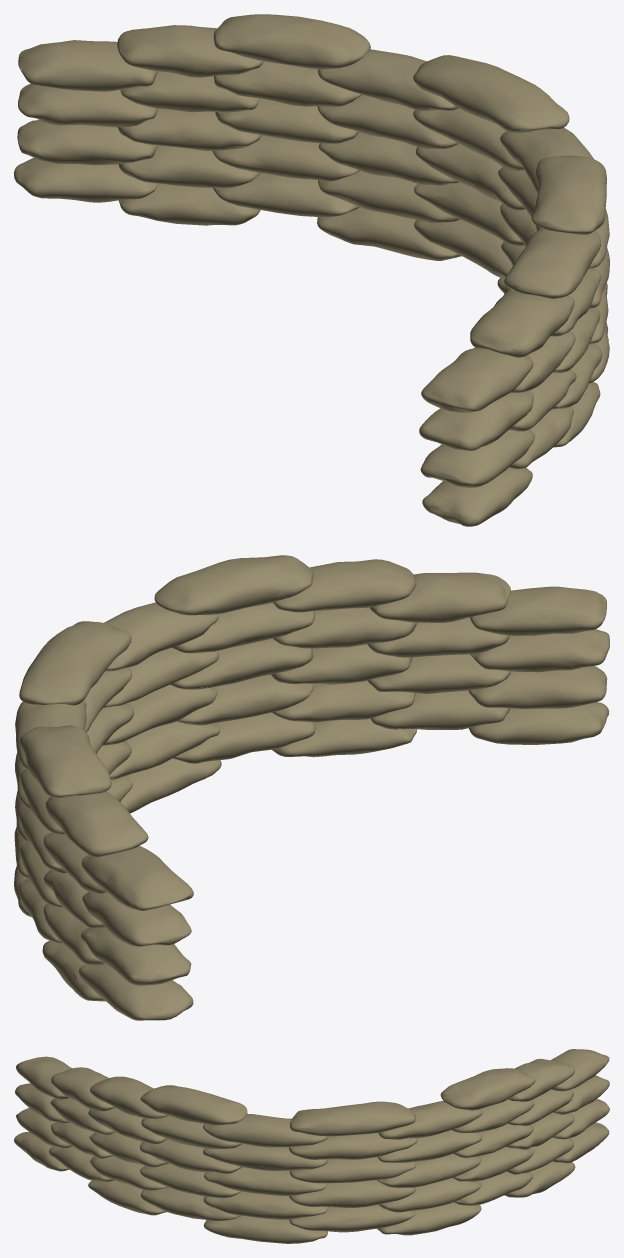
File: sandbag.glb
The picture shows the model from 3 angles, top to bottom: view 1: azimuth 30°, elevation 25°; view 2: azimuth 150°, elevation 25°; view 3: azimuth 270°, elevation 25°; orthographic projection. The views are drawn at different scales.
Parts seen in each view (by area): view 1: Cube.001__0; view 2: Cube.001__0; view 3: Cube.001__0.
Boxes of the visible parts, bbox=[...] form: Cube.001__0: bbox=[14, 14, 609, 526]; Cube.001__0: bbox=[14, 555, 609, 1020]; Cube.001__0: bbox=[14, 1049, 609, 1243].
Size of the model in its own units: 5.39 by 3.08 by 12.56.
